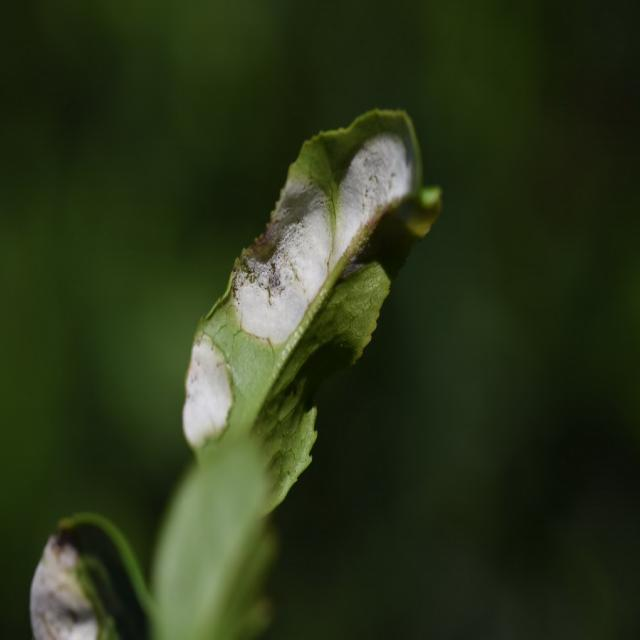Tea cake: (224, 176, 335, 334), (339, 117, 407, 246), (179, 325, 238, 433)
